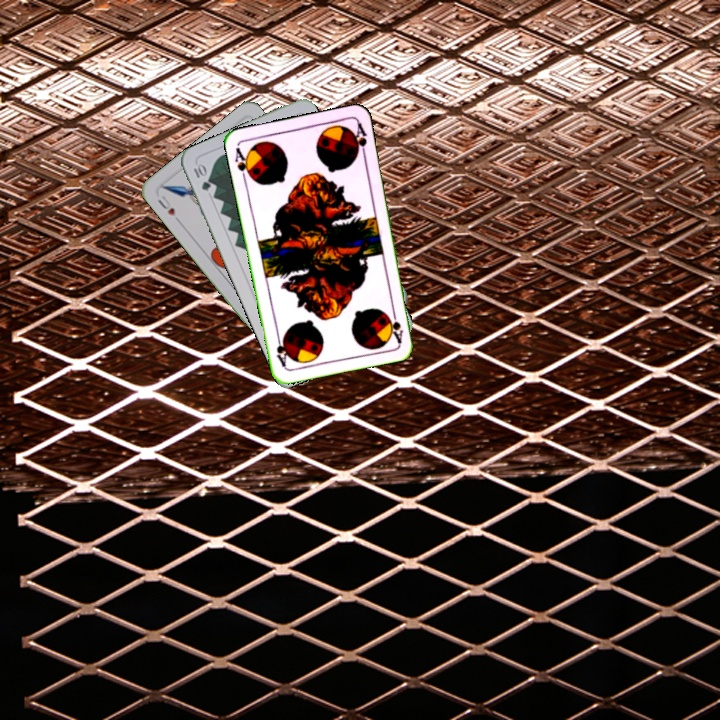G10: (189, 159, 213, 194)
HU: (154, 191, 182, 225)
SA: (231, 143, 255, 184), (386, 304, 406, 345)
